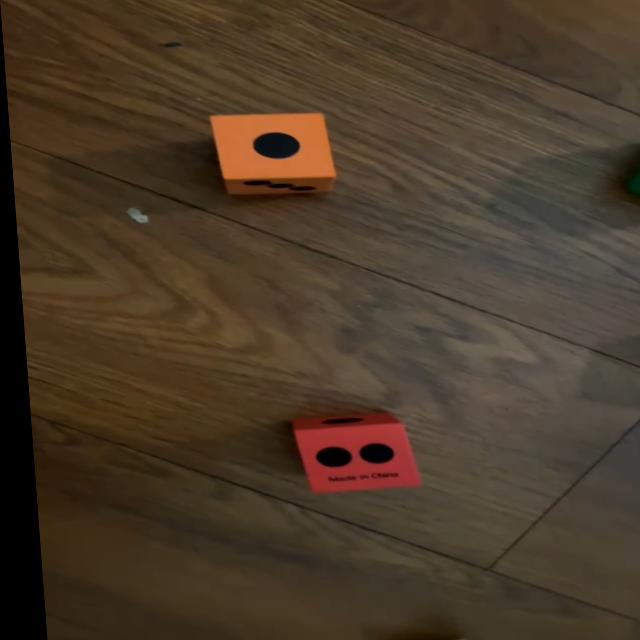red_block: (282, 412, 413, 494)
